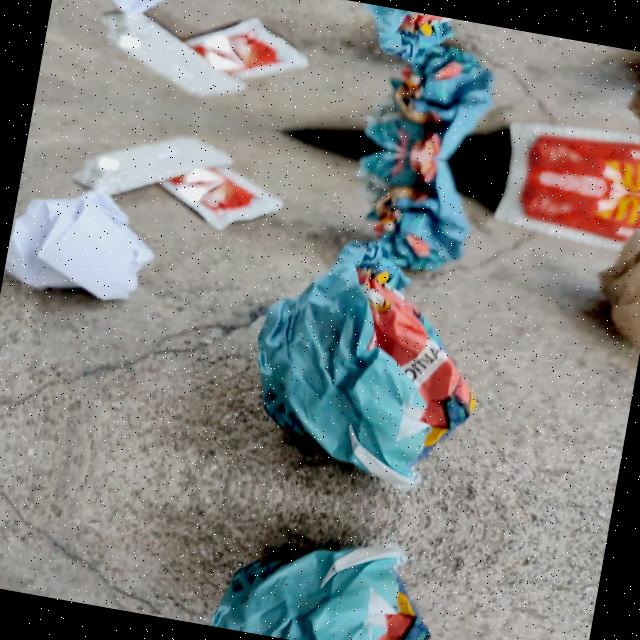paper: (224, 221, 506, 510), (196, 500, 457, 640), (0, 178, 155, 315), (299, 0, 547, 82), (343, 144, 482, 271), (362, 40, 501, 166), (52, 0, 195, 19)
